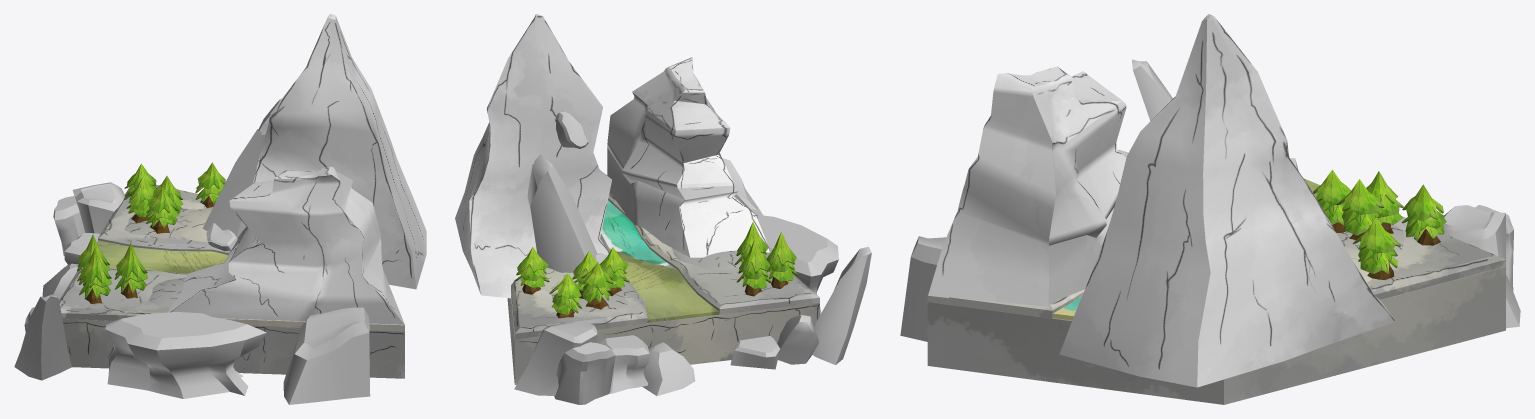
The model's file is biome_montagne 1.fbx.
3 renders of one model, left to right at view 1: azimuth 30°, elevation 25°; view 2: azimuth 150°, elevation 25°; view 3: azimuth 270°, elevation 25°, orthographic. The views are drawn at different scales.
Visible parts, largest first — view 1: montagne, montagne1, Callioux_61, Callioux_66, Sol_1, sol_montagne, Callioux_70, sol_montagne1, Callioux_58, rievere1, Callioux_69, Callioux_60 (+12 smaller); view 2: montagne1, montagne, Sol_1, rievere1, Callioux_58, sol_montagne, sol_montagne1, Callioux_70, Callioux_69, Callioux_60, Callioux_61, Callioux_67 (+15 smaller); view 3: montagne1, montagne, Sol_1, sol_montagne1, Callioux_69, Callioux_66, sol_montagne, Callioux_70, sapin58, sapin54, sapin46, sapin50 (+1 smaller).
Part boxes in pixels (<box>): montagne: <box>168,166,404,324</box>; montagne1: <box>227,14,426,289</box>; Callioux_61: <box>105,312,266,398</box>; Callioux_66: <box>283,307,370,404</box>; Sol_1: <box>62,319,404,378</box>; sol_montagne: <box>59,268,404,331</box>; Callioux_70: <box>14,294,71,380</box>; sol_montagne1: <box>98,184,230,254</box>; Callioux_58: <box>202,129,265,238</box>; rievere1: <box>82,240,228,273</box>; Callioux_69: <box>72,182,124,233</box>; Callioux_60: <box>53,196,85,255</box>; montagne1: <box>455,14,611,298</box>; montagne: <box>607,57,769,257</box>; Sol_1: <box>507,293,819,384</box>; rievere1: <box>601,200,719,322</box>; Callioux_58: <box>527,154,597,272</box>; sol_montagne: <box>608,193,819,314</box>; sol_montagne1: <box>511,278,647,339</box>; Callioux_70: <box>812,246,871,364</box>; Callioux_69: <box>514,321,597,395</box>; Callioux_60: <box>554,342,615,404</box>; Callioux_61: <box>756,215,838,314</box>; Callioux_67: <box>642,342,695,395</box>; montagne1: <box>1059,14,1395,387</box>; montagne: <box>928,66,1126,306</box>; Sol_1: <box>927,266,1505,404</box>; sol_montagne1: <box>1366,216,1505,299</box>; Callioux_69: <box>1443,205,1520,328</box>; Callioux_66: <box>900,236,946,341</box>; sol_montagne: <box>927,289,1084,318</box>; Callioux_70: <box>1132,59,1172,120</box>; sapin58: <box>1353,218,1400,253</box>; sapin54: <box>1336,179,1384,214</box>; sapin46: <box>1402,184,1443,221</box>; sapin50: <box>1313,169,1350,205</box>.
Size of the model in its own units: 13.32 by 9.21 by 13.23.
